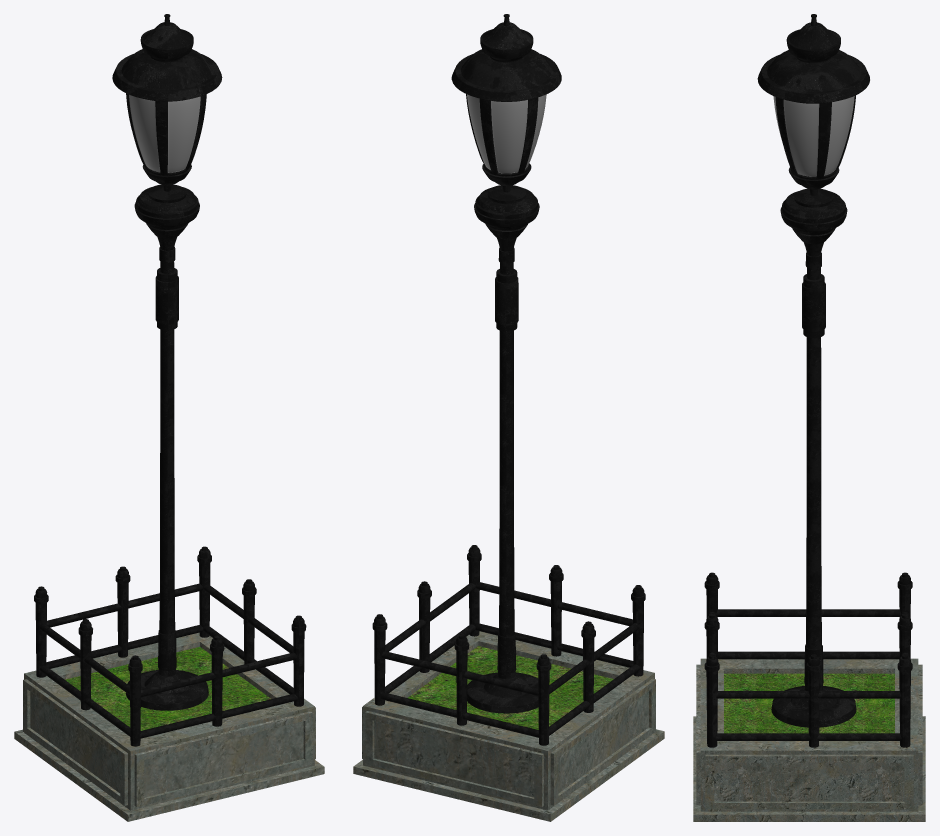
File: lamppost.obj
3 views of the same model, side by side, from view 1: azimuth 30°, elevation 25°; view 2: azimuth 150°, elevation 25°; view 3: azimuth 270°, elevation 25° (orthographic). The views are drawn at different scales.
Visible parts, largest first — view 1: LampRender:floor Lamp, Lamp lamp1, Lamp LampRender:fence; view 2: LampRender:floor Lamp, Lamp lamp1, Lamp LampRender:fence; view 3: LampRender:floor Lamp, Lamp lamp1, Lamp LampRender:fence.
Boxes of the visible parts, x1,y1,x2,y2 form: LampRender:floor Lamp: (14,632,324,821); Lamp lamp1: (112,14,222,710); Lamp LampRender:fence: (34,546,306,746); LampRender:floor Lamp: (353,631,664,821); Lamp lamp1: (451,14,561,713); Lamp LampRender:fence: (372,545,645,745); LampRender:floor Lamp: (693,658,925,821); Lamp lamp1: (757,14,869,727); Lamp LampRender:fence: (704,572,912,747).
Size of the model in its own units: 3.36 by 12.09 by 3.36.
Materials: 4 (3 with a texture image).
